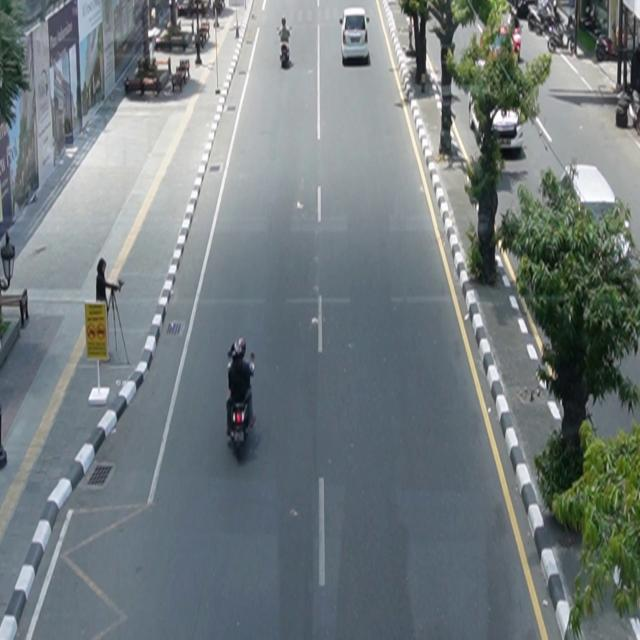car: (340, 7, 371, 64)
